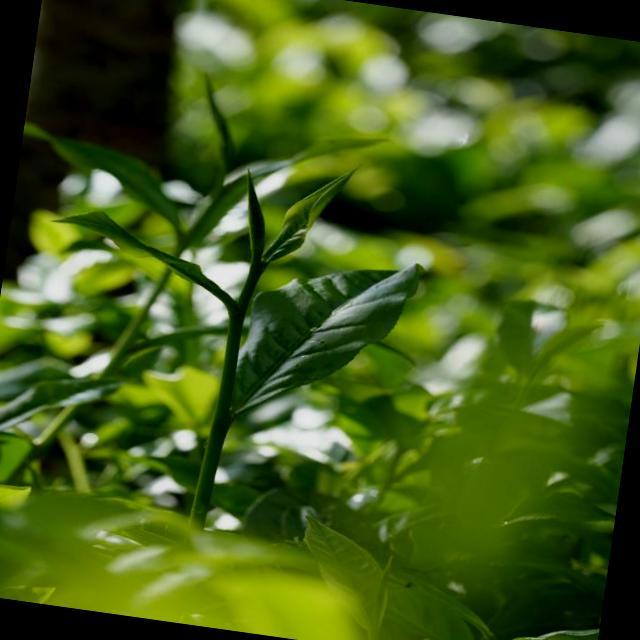Stem: (245, 271, 261, 286)
